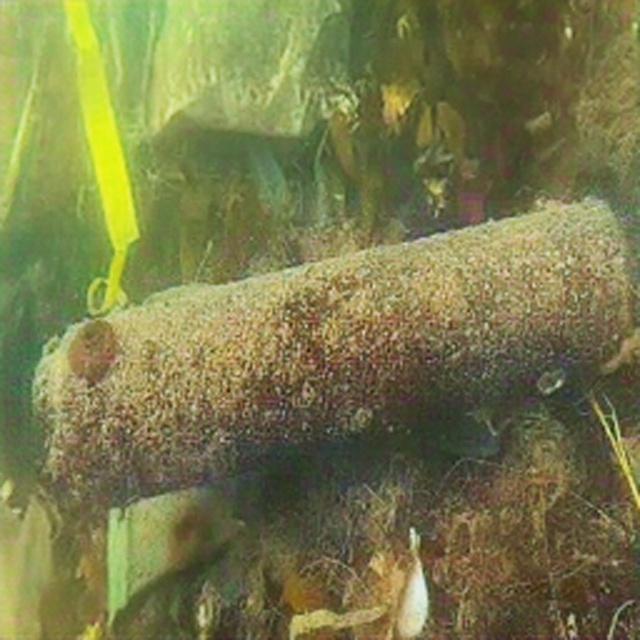mine: (31, 197, 639, 510)
